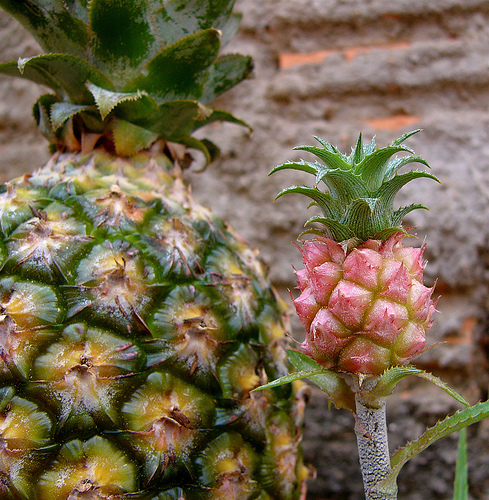pineapple: (0, 1, 315, 498), (268, 125, 446, 405)
